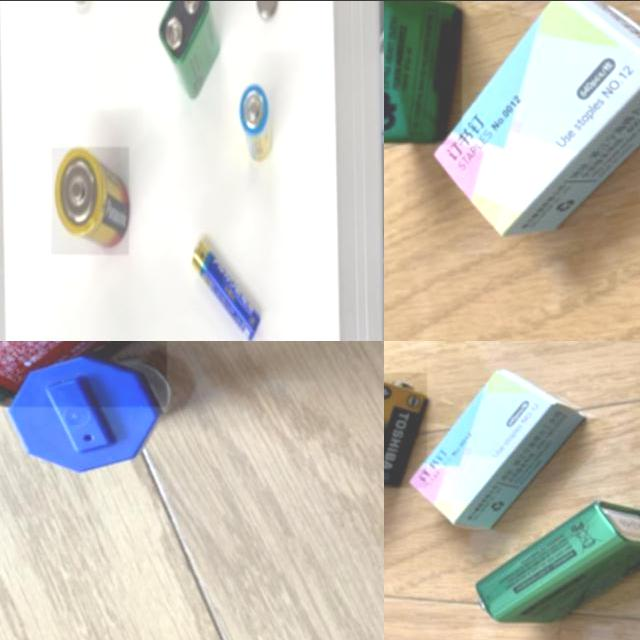9V: (476, 500, 640, 622), (384, 0, 462, 144), (158, 0, 219, 101), (384, 372, 427, 487)
